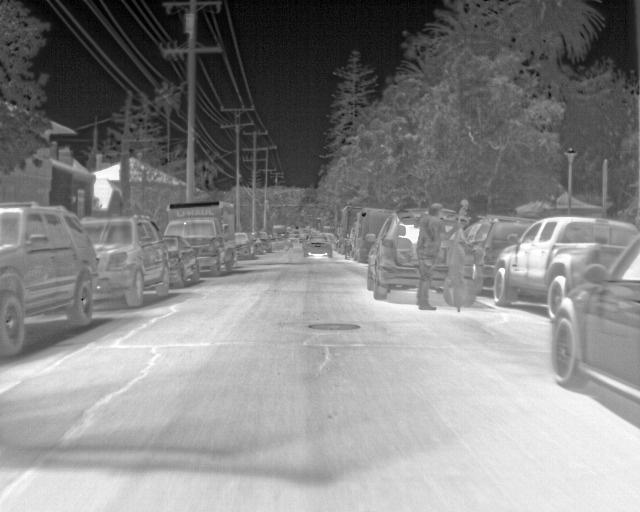bicycle: (0, 200, 102, 360), (548, 229, 638, 410), (493, 213, 637, 321), (77, 217, 170, 309), (461, 209, 541, 291), (366, 204, 422, 300), (162, 237, 200, 289), (303, 232, 335, 260), (233, 232, 256, 263), (253, 230, 273, 256)
empty: (416, 203, 458, 310)
